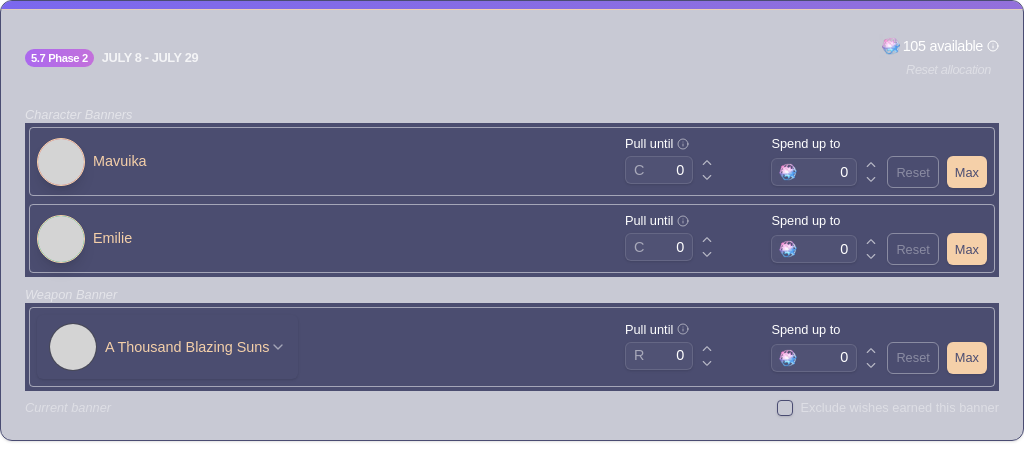
Scenario: BannerCard › Starglitter › User Interactions › should handle typing in wishes input and verify starglitter calculations
// Type 30 wishes in the input
Replace the text in the 2nd number field with "30" at point(824, 172), box [800,162,848,182]
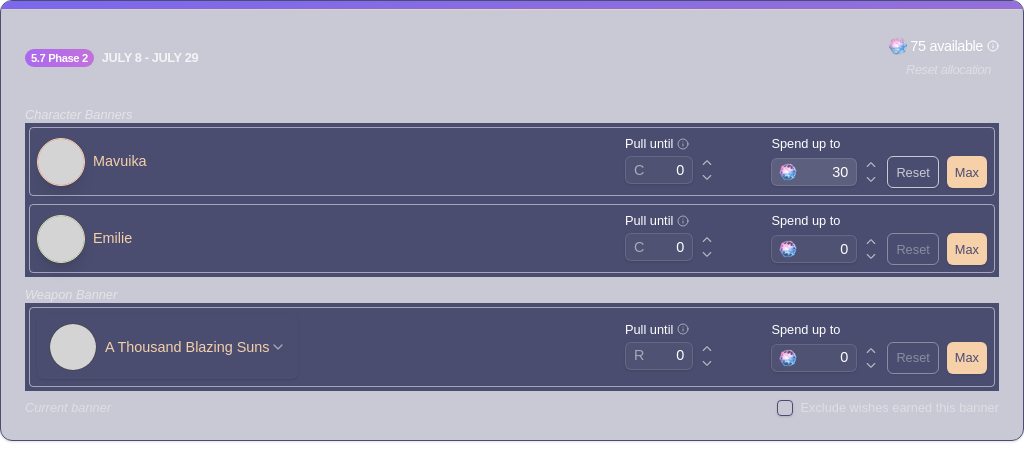
Check: the text "75" is shown, box [910,36,926,56]
